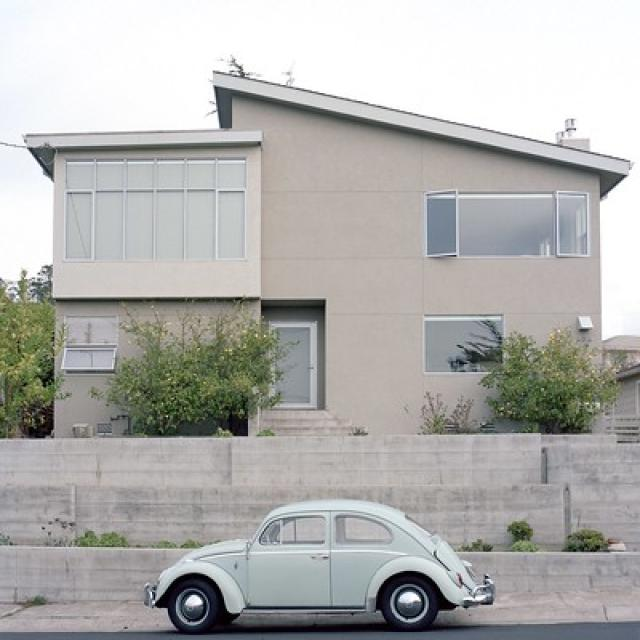building: (21, 68, 622, 432)
